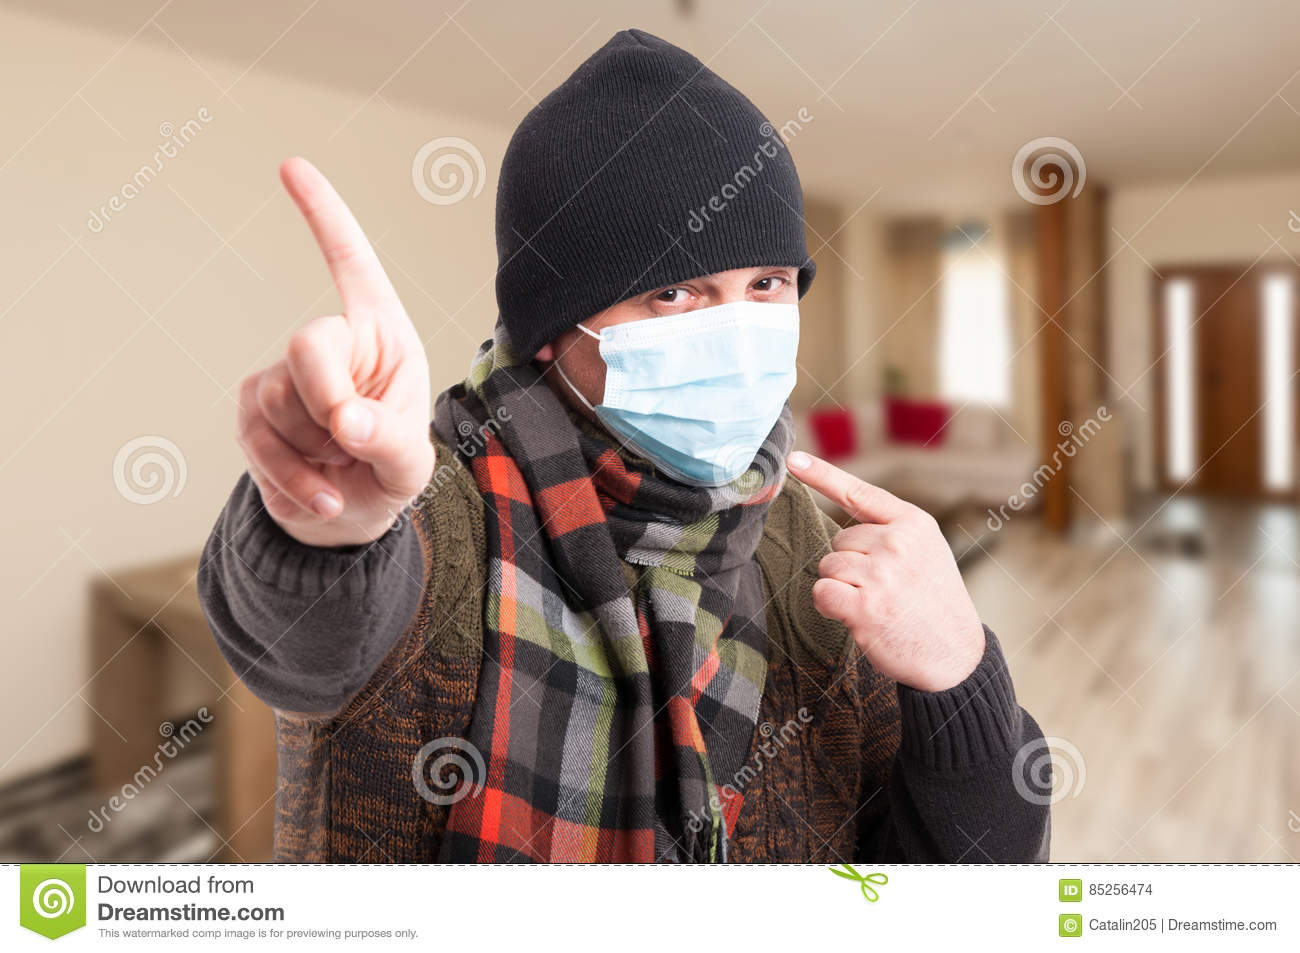mask: (595, 311, 792, 489)
